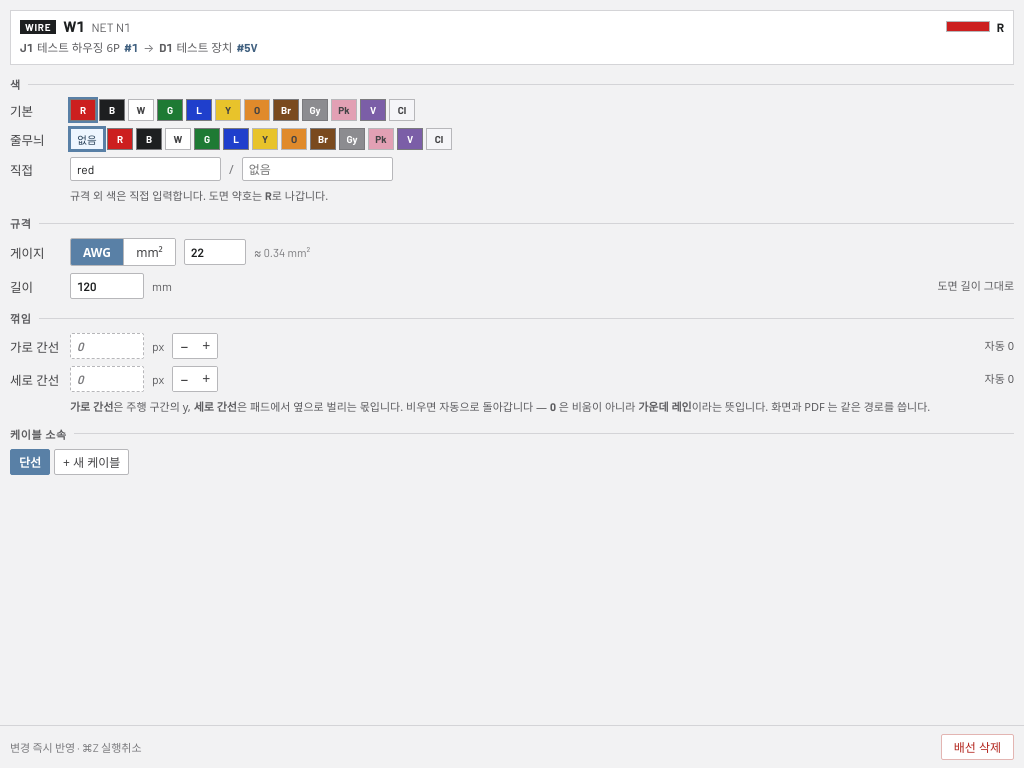
Test: (A) 와이어 — 게이지 › AWG · mm² 세그먼트를 바꾸면 값이 환산되고 반대 단위가 표시된다
Expected: the text "게이지" is shown, top-left (10, 244), bottom-right (44, 262)
Expected: the text "≈ 0.34 mm²" is shown, top-left (254, 244), bottom-right (310, 260)
Click the button "mm²": coordinates (149, 252) top-left (123, 239), bottom-right (175, 265)
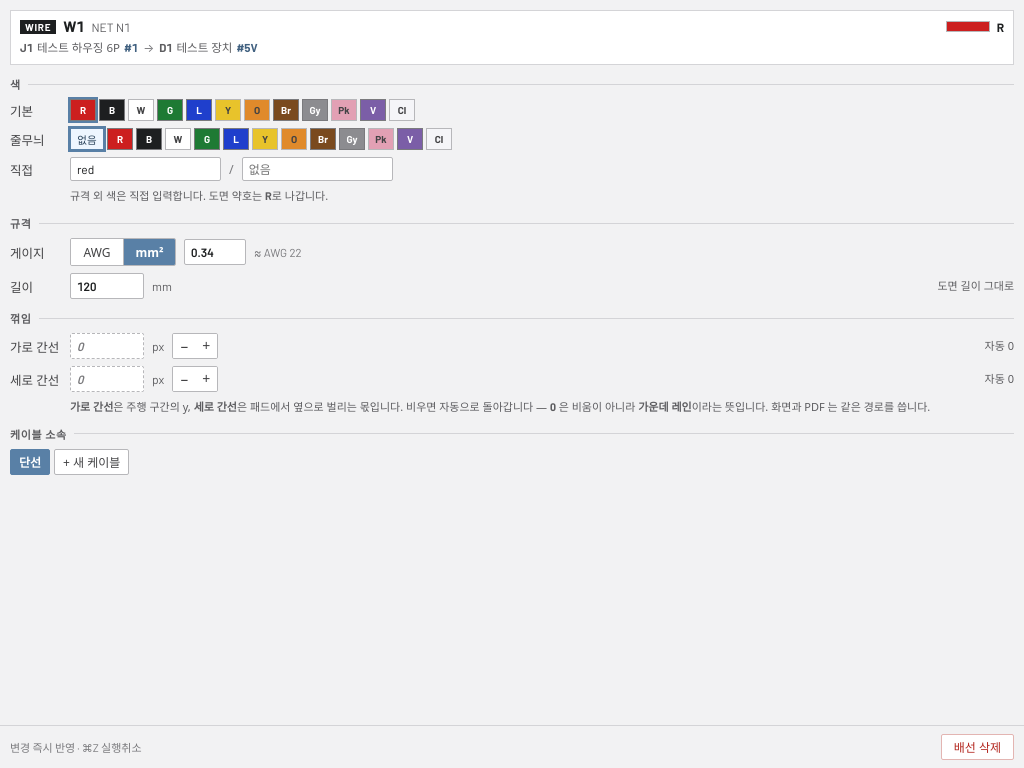
Now the text "≈ AWG 22" is shown, box top-left (254, 244), bottom-right (302, 260)
